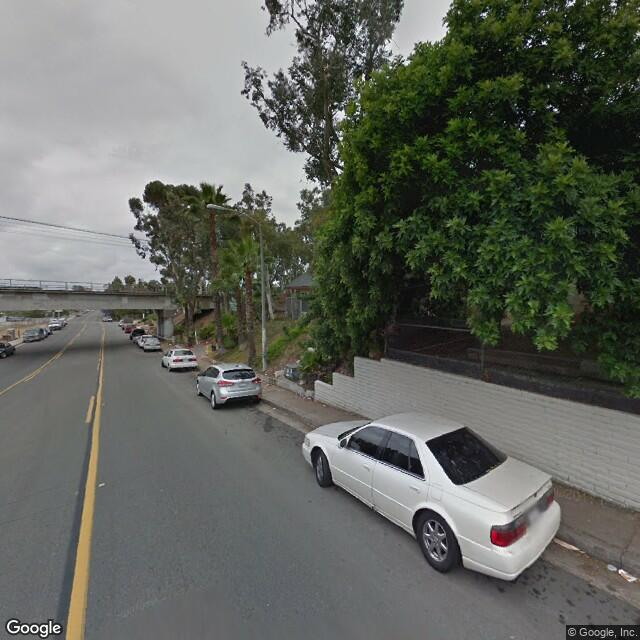litter: (558, 536, 584, 557), (621, 569, 640, 586), (607, 563, 620, 573)
